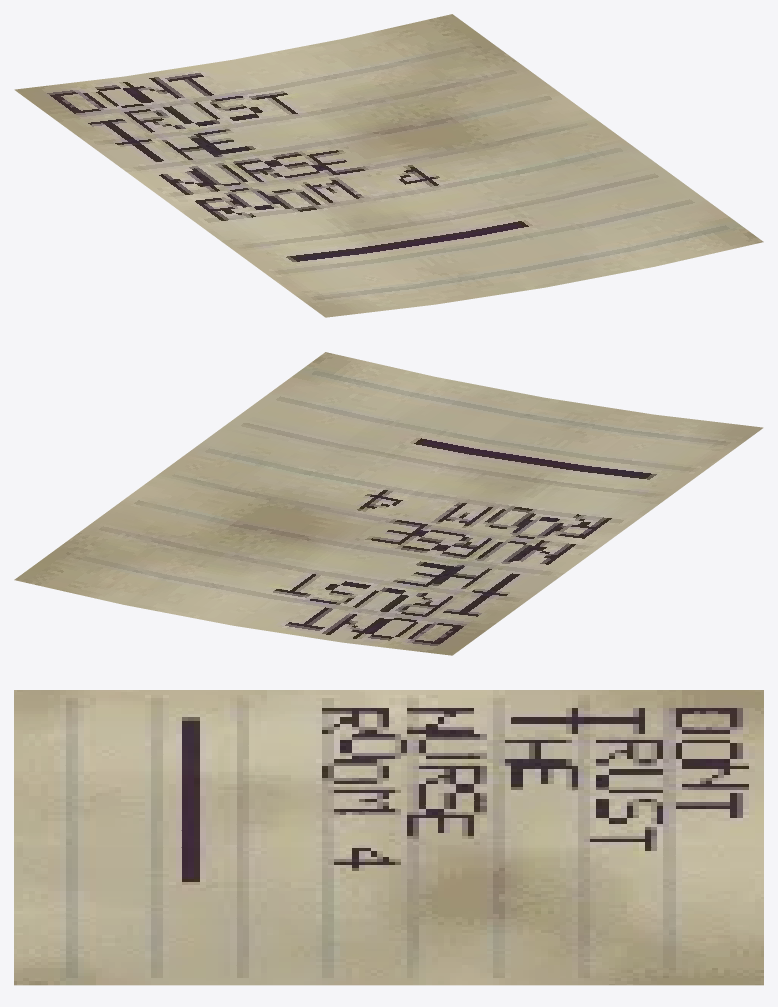
Rendered from vuena-px-fp-note.glb.
The picture shows the model from 3 angles, top to bottom: view 1: azimuth 30°, elevation 25°; view 2: azimuth 150°, elevation 25°; view 3: azimuth 270°, elevation 25°; orthographic projection. The views are drawn at different scales.
Parts seen in each view (by area): view 1: px_fp_note; view 2: px_fp_note; view 3: px_fp_note.
Part boxes in pixels (x1,y1,x2,y2): px_fp_note: [14, 14, 763, 317]; px_fp_note: [14, 352, 763, 655]; px_fp_note: [14, 690, 763, 985].
Bounding box in the file's own units: 0.117 × 0.0096 × 0.144.
1 material, 1 textured.
